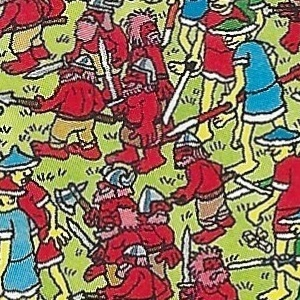Odlaw: (128, 57, 172, 242)
Wenda: (246, 58, 278, 244)
Wizard Whitebeard: (176, 43, 235, 243)
